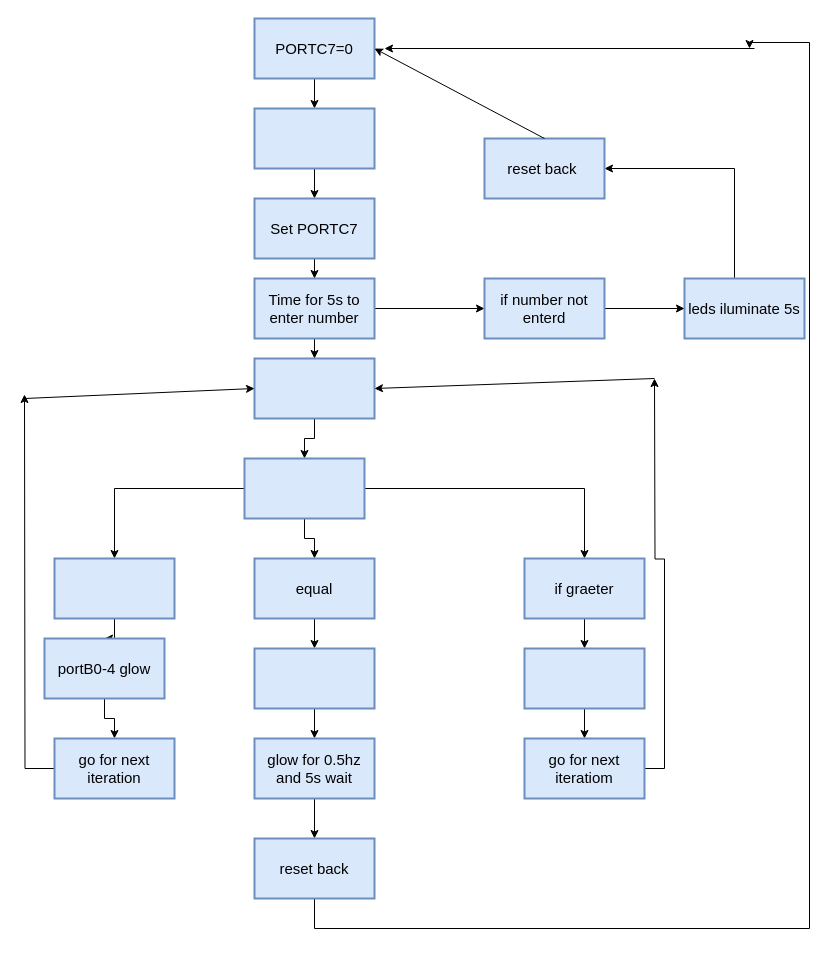
Some shapes in this 835 by 954 pixel diagram are drawn without their labels. Each missing label, with the box of its shape:
alll glow: (253, 647, 375, 709)
compare enterd number: (243, 457, 365, 519)
copy entered number to PORTB: (253, 107, 375, 169)
glow 4-7: (523, 647, 645, 709)
if enterd togglr PORTC7: (253, 357, 375, 419)
if less: (53, 557, 175, 619)
